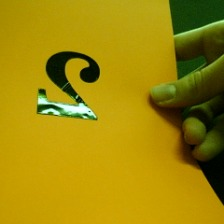orange2: (32, 45, 105, 124)
